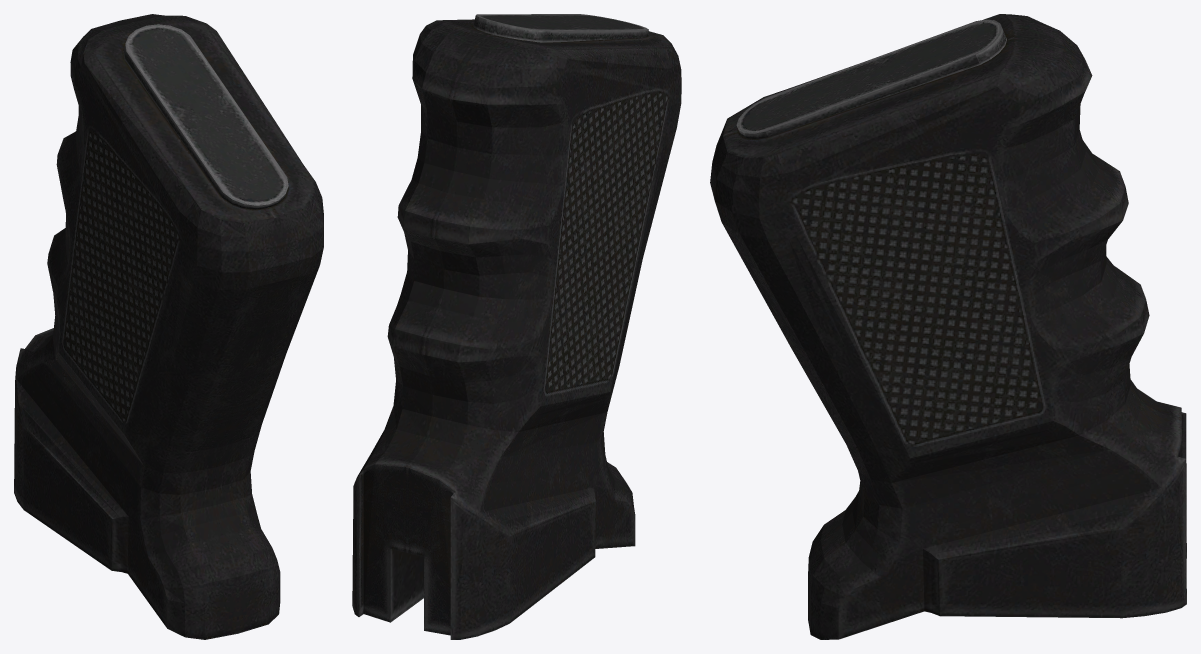
3 views of the same model, side by side, from view 1: azimuth 30°, elevation 25°; view 2: azimuth 150°, elevation 25°; view 3: azimuth 270°, elevation 25° (orthographic). The views are drawn at different scales.
Parts seen in each view (by area): view 1: TW_57d152ec245977144076ccdf_PZ_Import; view 2: TW_57d152ec245977144076ccdf_PZ_Import; view 3: TW_57d152ec245977144076ccdf_PZ_Import.
Part boxes in pixels (x1,y1,x2,y2): TW_57d152ec245977144076ccdf_PZ_Import: [14, 14, 323, 639]; TW_57d152ec245977144076ccdf_PZ_Import: [352, 14, 681, 639]; TW_57d152ec245977144076ccdf_PZ_Import: [710, 14, 1186, 639].
Bounding box in the file's own units: 0.0159 × 0.0436 × 0.0594.
Materials: 1 (1 with a texture image).
